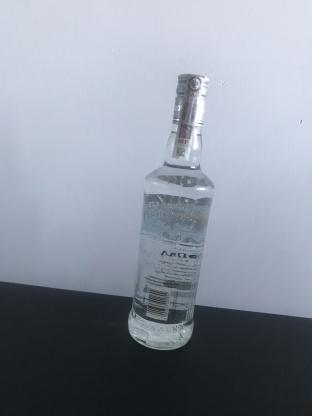nakretka: (170, 67, 210, 130)
